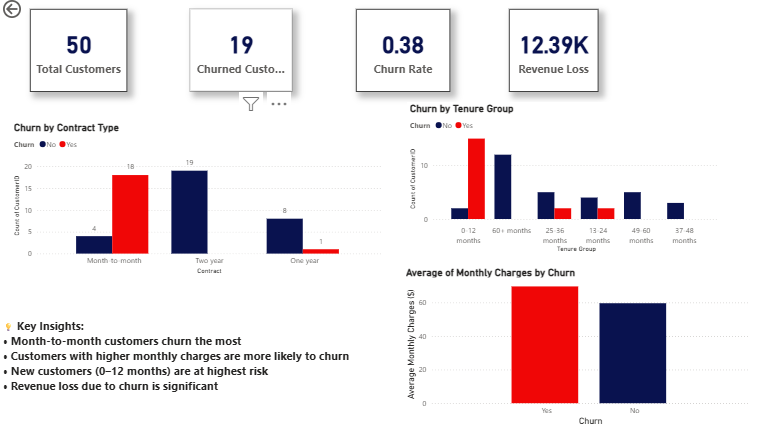

The page's visual inventory and layout, read from the dashboard file:
{"tool":"powerbi","page":{"name":"Page 1","canvas":[1280,720],"ordinal":0},"visuals":[{"type":"card","fields":{"Values":["telecom_churn.Total Customers"]},"box":[0,8,188,185],"z":0},{"type":"card","fields":{"Values":["telecom_churn.Churned Customers"]},"box":[209,10,198,185],"z":1000},{"type":"card","fields":{"Values":["telecom_churn.Churn Rate"]},"box":[435,10,197,185],"z":2000},{"type":"card","fields":{"Values":["telecom_churn.Revenue Loss"]},"box":[672,11,183,184],"z":3000},{"type":"clusteredColumnChart","title":"Churn by Contract Type","fields":{"Category":["telecom_churn.Contract"],"Series":["telecom_churn.Churn"],"Y":["CountNonNull(telecom_churn.CustomerID)"]},"box":[10,271,352,259],"z":4000},{"type":"actionButton","box":[0,0,100,40],"z":5000},{"type":"clusteredColumnChart","title":"Average of Monthly Charges by Churn","fields":{"Category":["telecom_churn.Churn"],"Y":["Avg(telecom_churn.MonthlyCharges)"]},"box":[466,511,347,209],"z":6000},{"type":"clusteredColumnChart","title":"Churn by Tenure Group","fields":{"Category":["telecom_churn.Tenure Group"],"Y":["CountNonNull(telecom_churn.CustomerID)"],"Series":["telecom_churn.Churn"]},"box":[466,271,331,240],"z":7000},{"type":"textbox","box":[0,530,375,190],"z":8000}]}

Visuals, with their boxes in screenshot pixels (x1, y1, x2, y2), scaled from the page's 1280x720 canvas onto the 765x428 screenshot:
card - telecom_churn.Total Customers: BBox(0, 5, 112, 115)
card - telecom_churn.Churned Customers: BBox(125, 6, 243, 116)
card - telecom_churn.Churn Rate: BBox(260, 6, 378, 116)
card - telecom_churn.Revenue Loss: BBox(402, 7, 511, 116)
"Churn by Contract Type" clusteredColumnChart: BBox(6, 161, 216, 315)
actionButton: BBox(0, 0, 60, 24)
"Average of Monthly Charges by Churn" clusteredColumnChart: BBox(279, 304, 486, 427)
"Churn by Tenure Group" clusteredColumnChart: BBox(279, 161, 476, 304)
textbox: BBox(0, 315, 224, 427)
